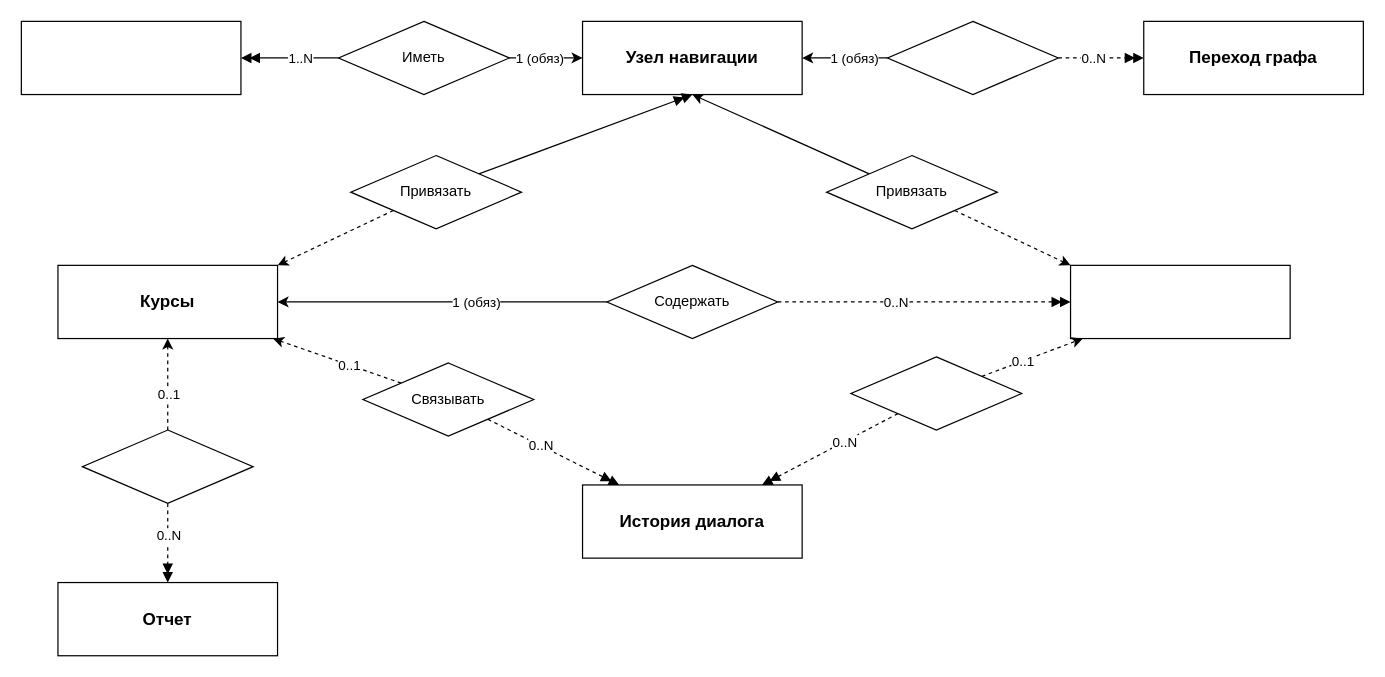
Image size: 1385x677. Some labels were removed from this diagram. The shapes that lost their labels are listed below. From the top down, each one's centre as x and y in pixels, then its label:
point (130, 57): Правило доступа
point (972, 57): Связать
point (1179, 301): Уроки
point (936, 393): Привязывать
point (167, 466): Относить
